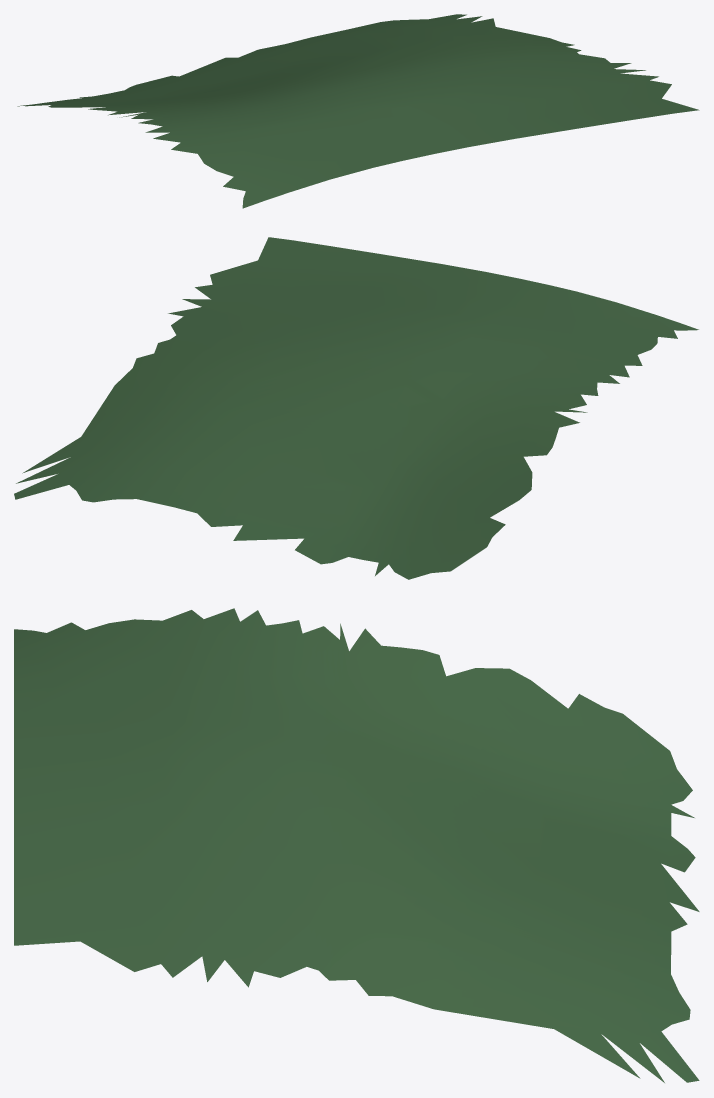
The model's file is payo_land_xm4_y10_lod1.glb.
3 views of the same model, one above another, from view 1: azimuth 30°, elevation 25°; view 2: azimuth 150°, elevation 25°; view 3: azimuth 270°, elevation 25° (orthographic). The views are drawn at different scales.
Visible parts, largest first — view 1: payo_land_xm4_y10; view 2: payo_land_xm4_y10; view 3: payo_land_xm4_y10.
Part boxes in pixels (bbox=[...]): payo_land_xm4_y10: bbox=[17, 14, 699, 208]; payo_land_xm4_y10: bbox=[14, 237, 698, 579]; payo_land_xm4_y10: bbox=[14, 608, 699, 1082].
Size of the model in its own units: 277 by 64.18 by 249.
